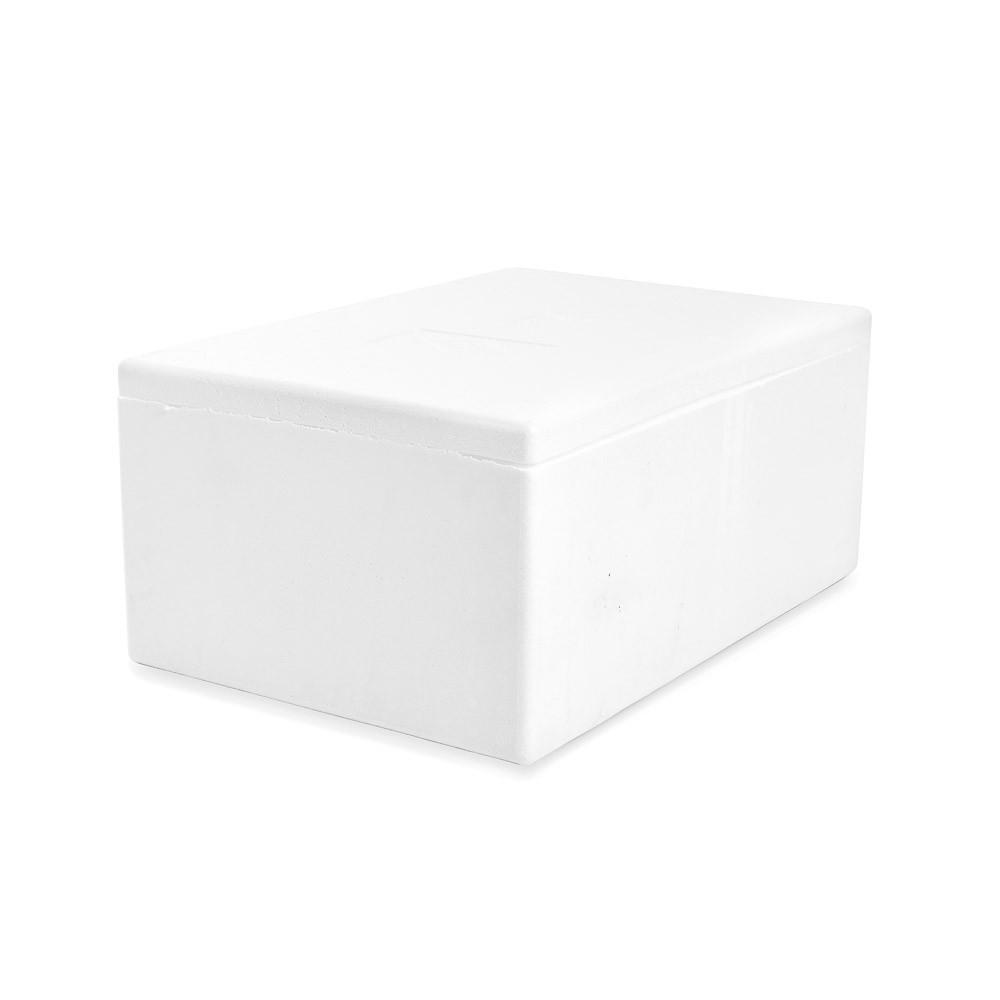Foam Box: (110, 256, 882, 781)
